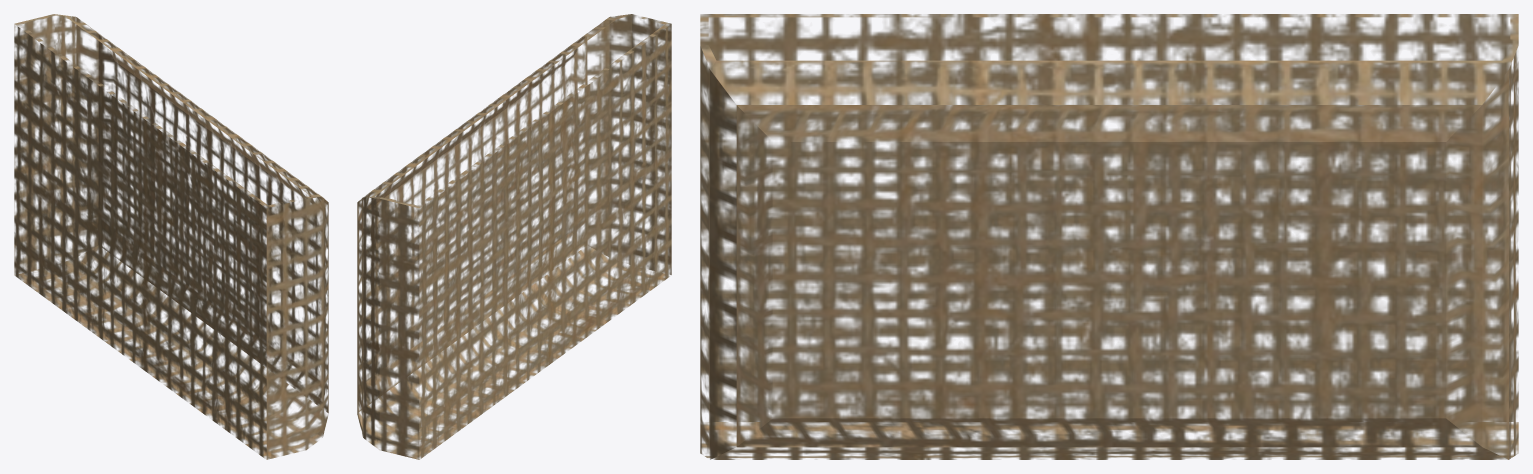
Rendered from basket.glb.
The picture shows the model from 3 angles, left to right: view 1: azimuth 30°, elevation 25°; view 2: azimuth 150°, elevation 25°; view 3: azimuth 270°, elevation 25°; orthographic projection. The views are drawn at different scales.
Parts seen in each view (by area): view 1: Basket; view 2: Basket; view 3: Basket.
Boxes of the visible parts, x1,y1,x2,y2 form: Basket: [14, 14, 328, 459]; Basket: [357, 14, 671, 459]; Basket: [700, 14, 1518, 459].
Size of the model in its own units: 0.0217 by 0.0662 by 0.1203.
Materials: 1 (1 with a texture image).
